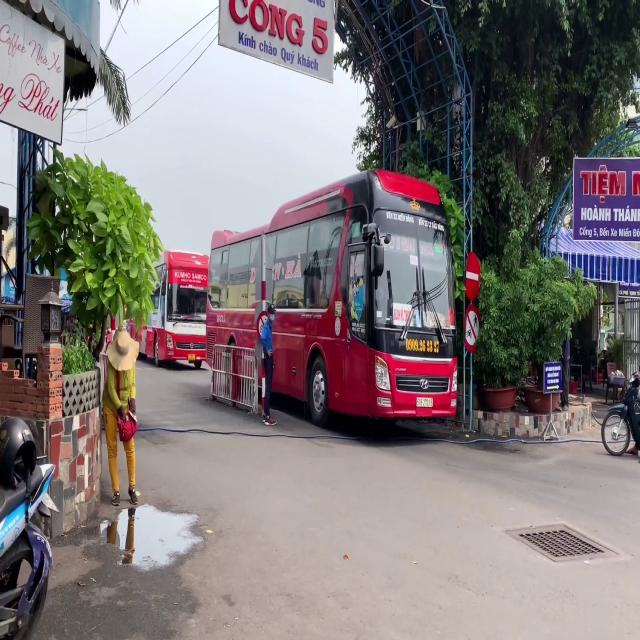bien_trang: (415, 395, 436, 409)
